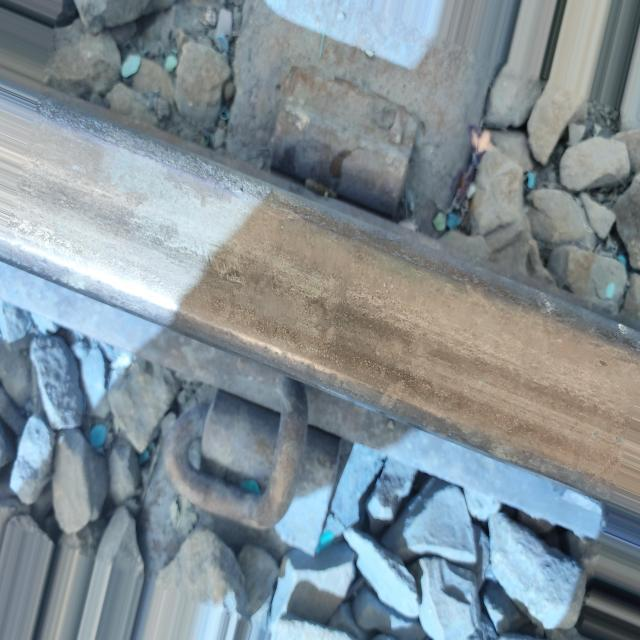Good Fasteners: (153, 356, 358, 572)
Missing Fastener: (253, 56, 433, 222)
